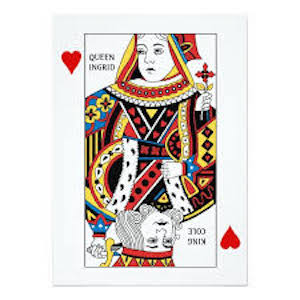QueenOfHearts: (47, 8, 256, 292)
